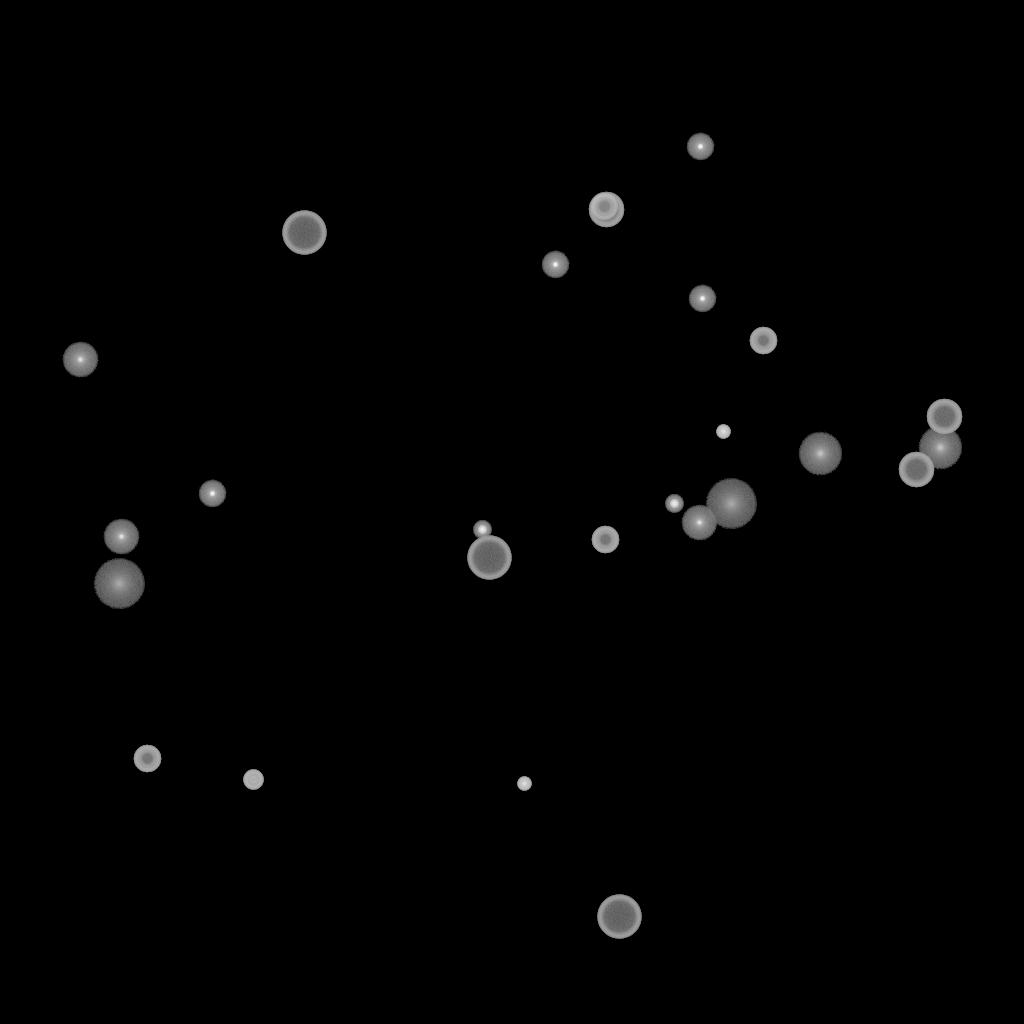depth:-10: (541, 251, 569, 279), (688, 285, 716, 313), (686, 133, 714, 161), (198, 480, 226, 508)
depth:-20: (473, 521, 491, 539), (665, 495, 683, 513)
depth:-30: (716, 425, 730, 439), (517, 777, 531, 791)
depth:-40: (243, 770, 263, 790)
depth:-50: (749, 327, 777, 355), (591, 526, 619, 554), (133, 745, 161, 773), (590, 193, 618, 221)
depth:-60: (898, 452, 934, 488), (588, 192, 624, 228), (926, 399, 962, 435)
depth:-70: (467, 536, 511, 580), (597, 895, 641, 939), (282, 211, 326, 255)
depth:0: (62, 342, 98, 378), (681, 505, 717, 541), (103, 519, 139, 555)
depth:10: (798, 432, 842, 476), (918, 426, 962, 470)
depth:20: (705, 479, 757, 529), (93, 559, 145, 609)
